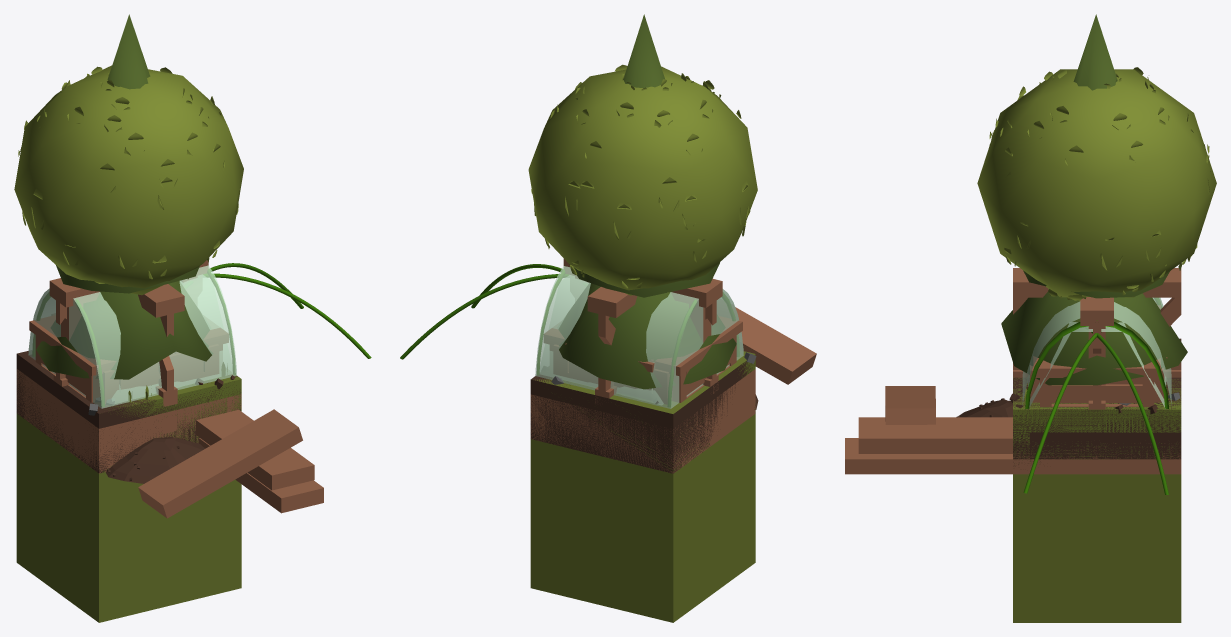
Rendered from GameAssets.glb.
The picture shows the model from 3 angles, left to right: view 1: azimuth 30°, elevation 25°; view 2: azimuth 150°, elevation 25°; view 3: azimuth 270°, elevation 25°; orthographic projection. The views are drawn at different scales.
Parts seen in each view (by area): view 1: Tree 1, Gound Cube, Raised Bed I Construction, Tree 2, Tunnel Half, Raised Bed O, Block Ground 1, Block Grass 1, X Half, Composter, Shade W, Raised Bed I (+7 smaller); view 2: Tree 1, Gound Cube, Tree 2, Block Ground 1, Tunnel Half, Raised Bed O, Raised Bed I Construction, Raised Bed L, X Half, Shade E, Block Grass 1, GardenBox_Lid_HingeOrigin (+5 smaller); view 3: Tree 1, Gound Cube, Raised Bed I Construction, Tree 2, Block Grass 1, Block Ground 1, Raised Bed L, GardenBox_Body_Planks, Tunnel Half, Raised Bed U, Shade S, Shade E (+6 smaller).
Boxes of the visible parts, <box> form: Tree 1: <box>14,65,243,295</box>; Gound Cube: <box>16,413,241,622</box>; Raised Bed I Construction: <box>106,409,323,518</box>; Tree 2: <box>36,14,212,379</box>; Tunnel Half: <box>28,265,236,408</box>; Raised Bed O: <box>16,369,241,473</box>; Block Ground 1: <box>16,351,241,473</box>; Block Grass 1: <box>108,362,241,425</box>; X Half: <box>112,275,232,403</box>; Composter: <box>102,344,218,396</box>; Shade W: <box>138,284,184,391</box>; Raised Bed I: <box>17,370,241,473</box>; Tree 1: <box>528,64,757,295</box>; Gound Cube: <box>530,414,755,622</box>; Tree 2: <box>558,14,736,389</box>; Block Ground 1: <box>530,352,756,473</box>; Tunnel Half: <box>535,266,743,408</box>; Raised Bed O: <box>530,369,755,473</box>; Raised Bed I Construction: <box>735,307,816,409</box>; Raised Bed L: <box>532,375,747,472</box>; X Half: <box>540,275,663,404</box>; Shade E: <box>587,287,637,456</box>; Block Grass 1: <box>535,351,755,471</box>; GardenBox_Lid_HingeOrigin: <box>544,316,742,376</box>; Tree 1: <box>977,67,1216,300</box>; Gound Cube: <box>1013,474,1181,622</box>; Raised Bed I Construction: <box>845,386,1181,474</box>; Tree 2: <box>1001,14,1187,385</box>; Block Grass 1: <box>1013,377,1181,459</box>; Block Ground 1: <box>1009,338,1181,466</box>; Raised Bed L: <box>1030,432,1181,459</box>; GardenBox_Body_Planks: <box>1040,378,1154,406</box>; Tunnel Half: <box>1022,297,1171,405</box>; Raised Bed U: <box>1030,432,1164,461</box>; Shade S: <box>1080,297,1113,458</box>; Shade E: <box>1143,268,1181,369</box>.
Bounding box in the file's own units: 2.15 × 3.76 × 2.21.
Materials: 18 (1 with a texture image).
